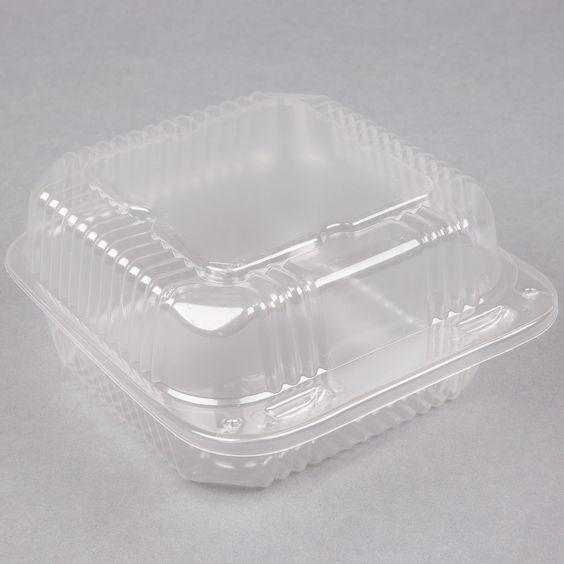PS: (1, 91, 563, 489)
